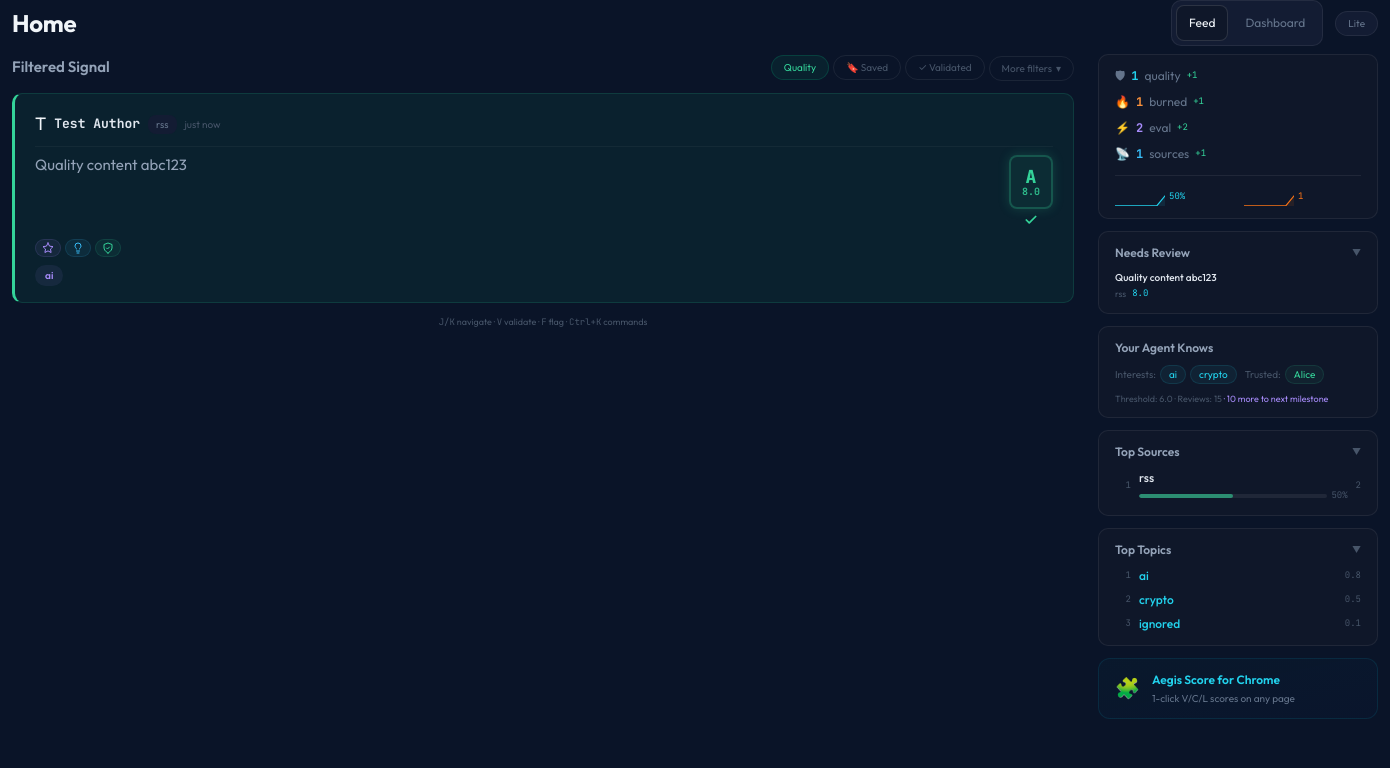
Test: More Filters dropdown › Latest feed excludes slop by default, Slop filter shows slop
The width and height of the screenshot is (1390, 768).
Expected: the text "Slop content xyz789" is not shown
// Switch to Slop filter to see slop items
Click the button with test id "aegis-filter-more".
click(1031, 68)  # box [989,56,1074,81]
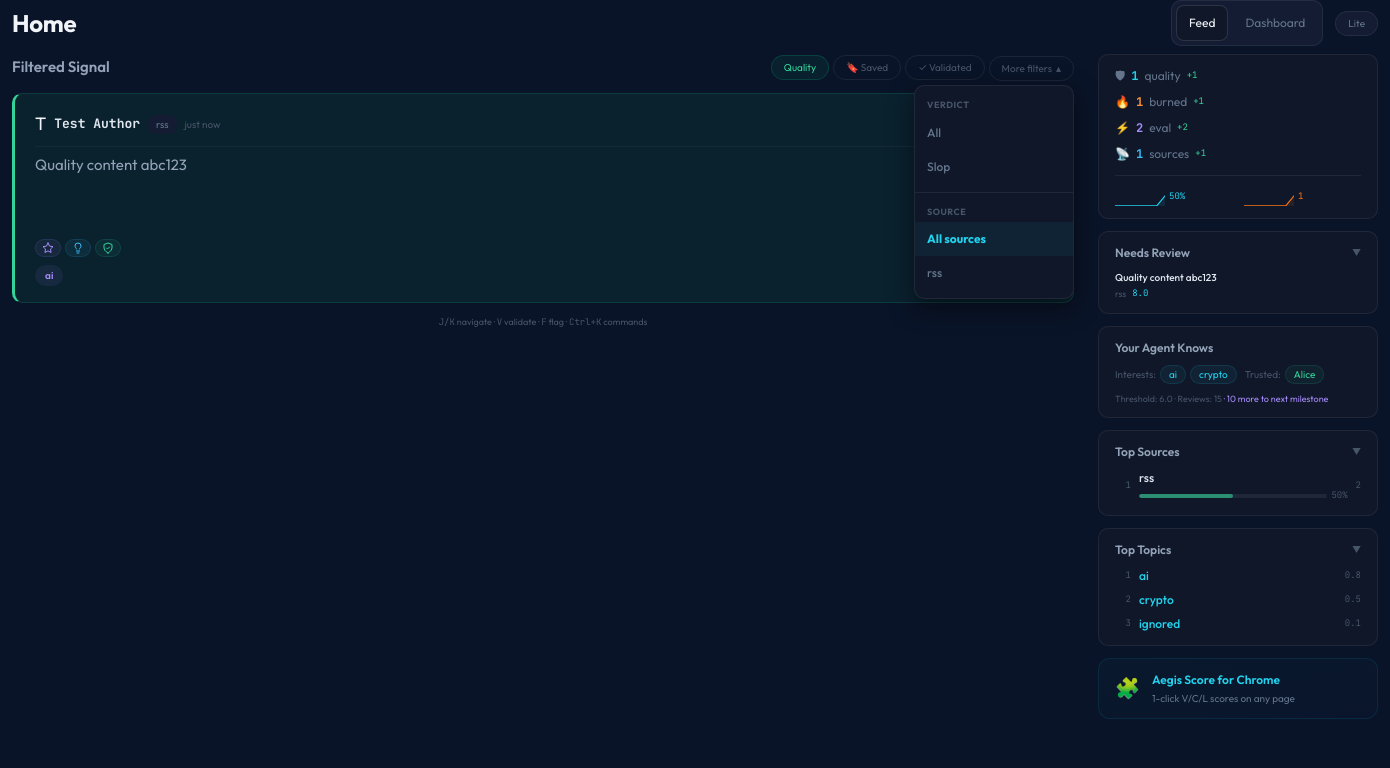
Click the menu item with test id "aegis-filter-slop".
click(994, 166)  # box [915,150,1073,184]
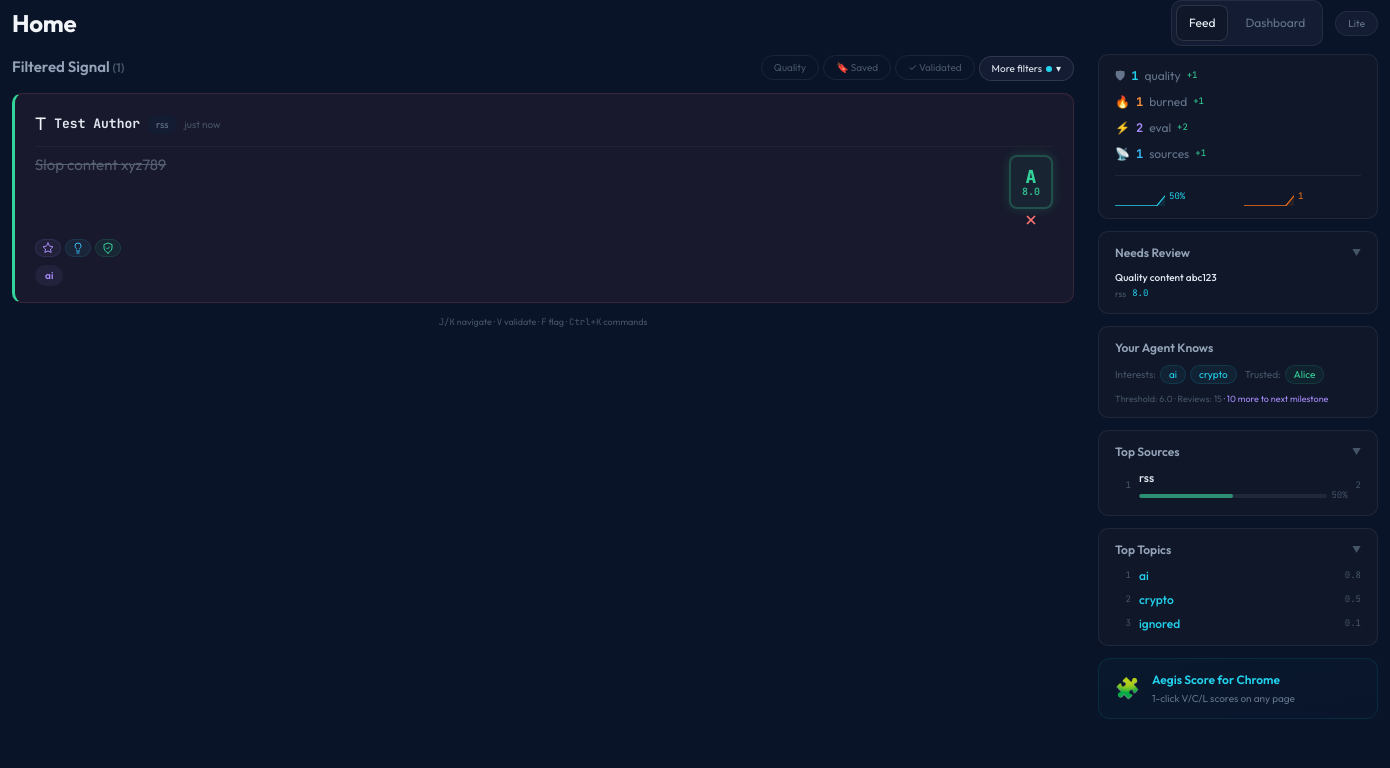
Now the text "Slop content xyz789" is shown, box [35,155,166,174]
